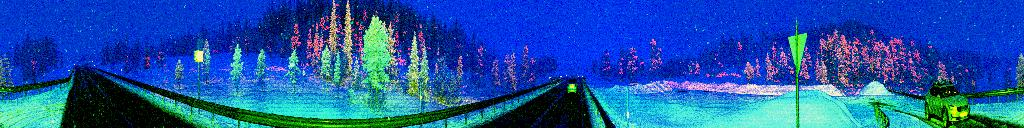pole: (418, 81, 424, 112), (626, 86, 630, 128)
